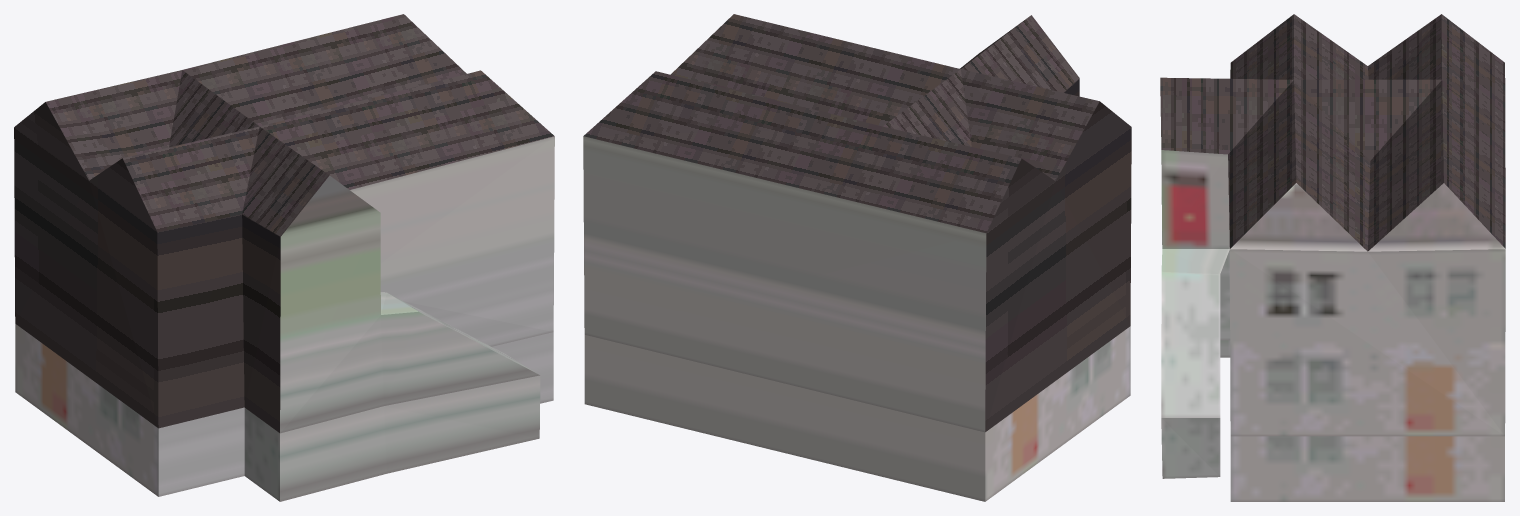
File: lod_hse_06_sfxrf.obj
3 renders of one model, left to right at view 1: azimuth 30°, elevation 25°; view 2: azimuth 150°, elevation 25°; view 3: azimuth 270°, elevation 25°, orthographic. The views are drawn at different scales.
Visible parts, largest first — view 1: LOD_hse_06_SFXRF; view 2: LOD_hse_06_SFXRF; view 3: LOD_hse_06_SFXRF.
Part boxes in pixels (<box>): LOD_hse_06_SFXRF: <box>14,14,554,501</box>; LOD_hse_06_SFXRF: <box>583,14,1131,501</box>; LOD_hse_06_SFXRF: <box>1160,14,1505,501</box>.
Size of the model in its own units: 12.18 by 9.21 by 9.54.
2 materials, 2 textured.
